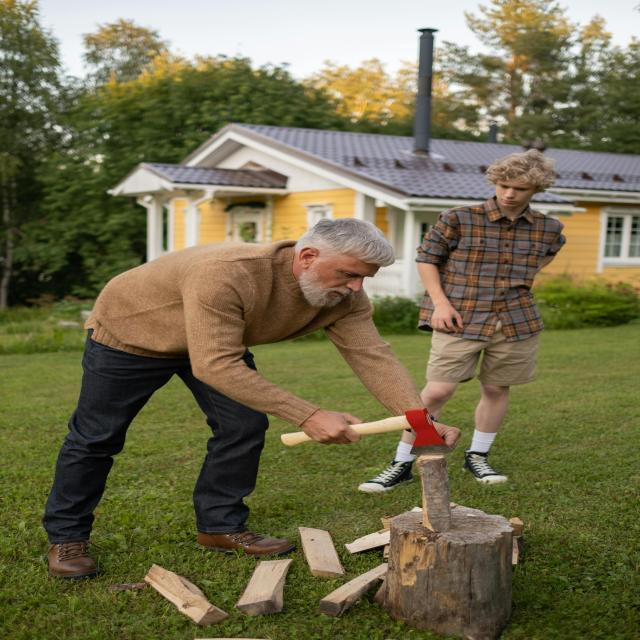Axe: (349, 408, 451, 455)
